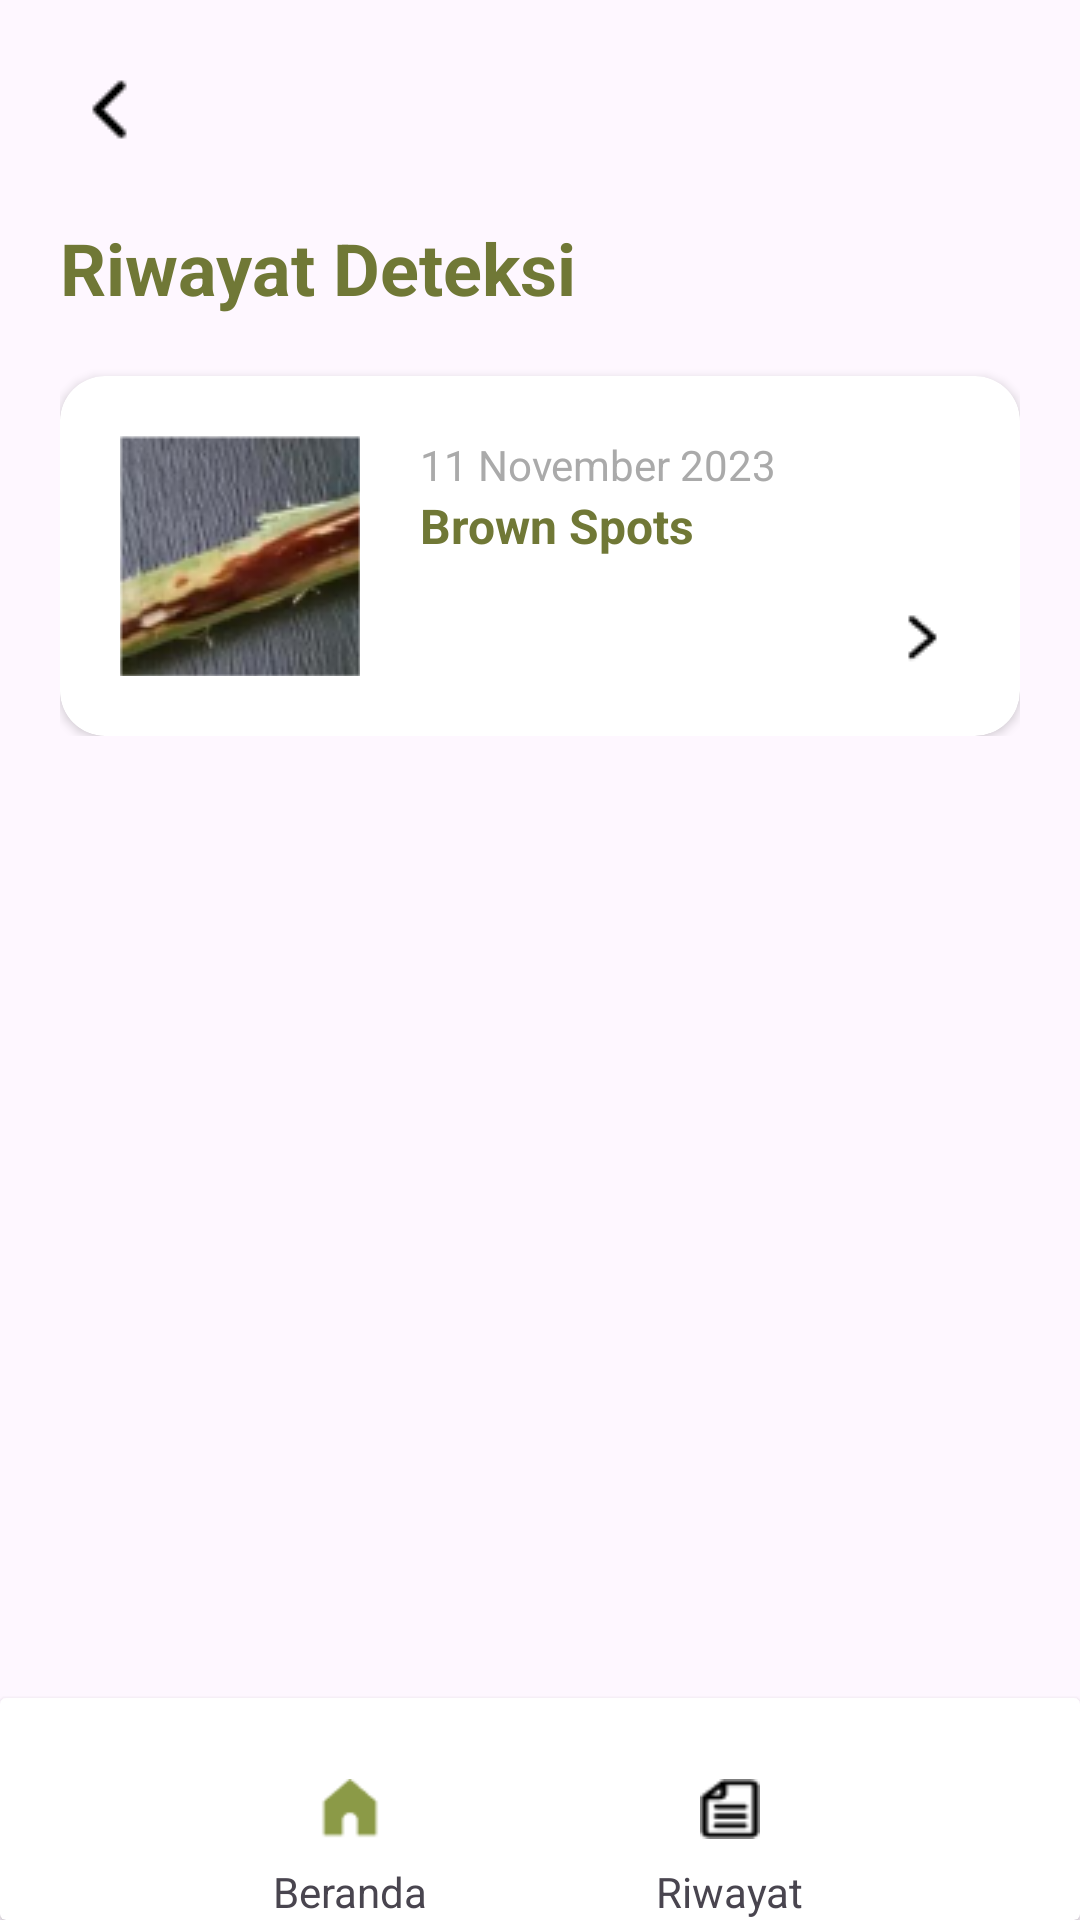

Named icons in this screenshot (1080w x 1920h) and their centers, [x,y]:
general back arrow: [109,109]
homescreen arrow history: [922,637]
